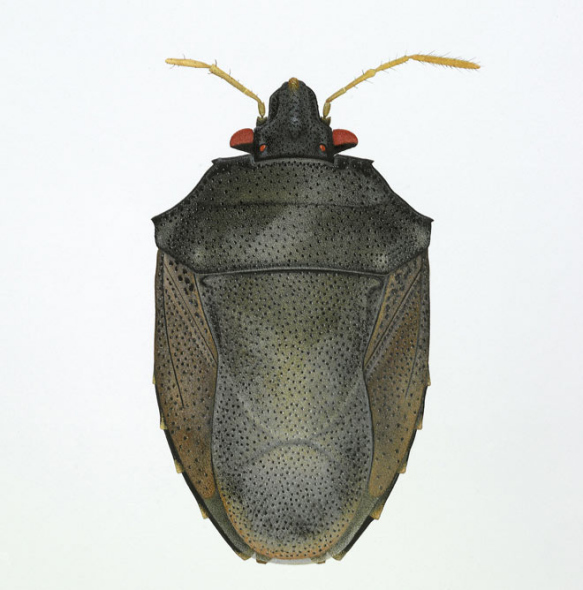chunchong: (130, 59, 452, 559)
